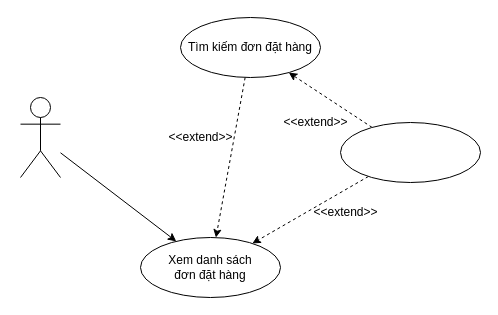
The diagram is 498 pixels wide and 315 high, and some of its shapes have lost their labels. The centre of each missing label's shape, as x and y in pixels:
"Quản trị" goes at (x=40, y=137).
"Xóa đơn đặt hàng" goes at (x=410, y=152).
